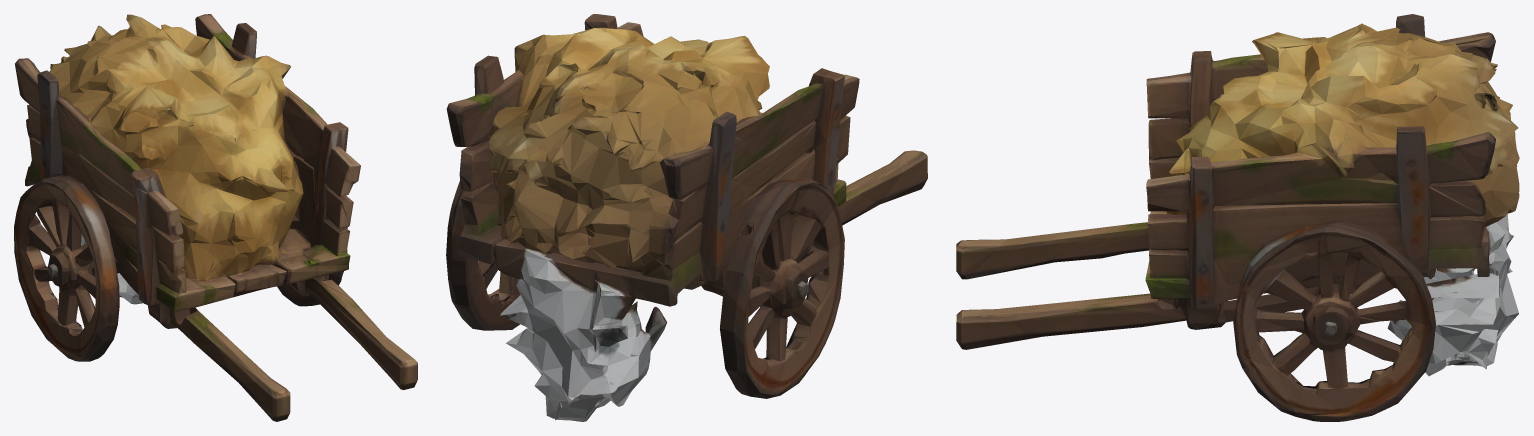
The model's file is cart.glb.
The picture shows the model from 3 angles, left to right: view 1: azimuth 30°, elevation 25°; view 2: azimuth 150°, elevation 25°; view 3: azimuth 270°, elevation 25°; orthographic projection. The views are drawn at different scales.
Visible parts, largest first — view 1: world; view 2: world; view 3: world.
Part boxes in pixels (bbox=[...]): world: bbox=[14, 14, 417, 421]; world: bbox=[446, 14, 927, 421]; world: bbox=[956, 14, 1519, 421].
Bounding box in the file's own units: 0.6204 × 0.6281 × 0.9982.
1 material, 1 textured.
